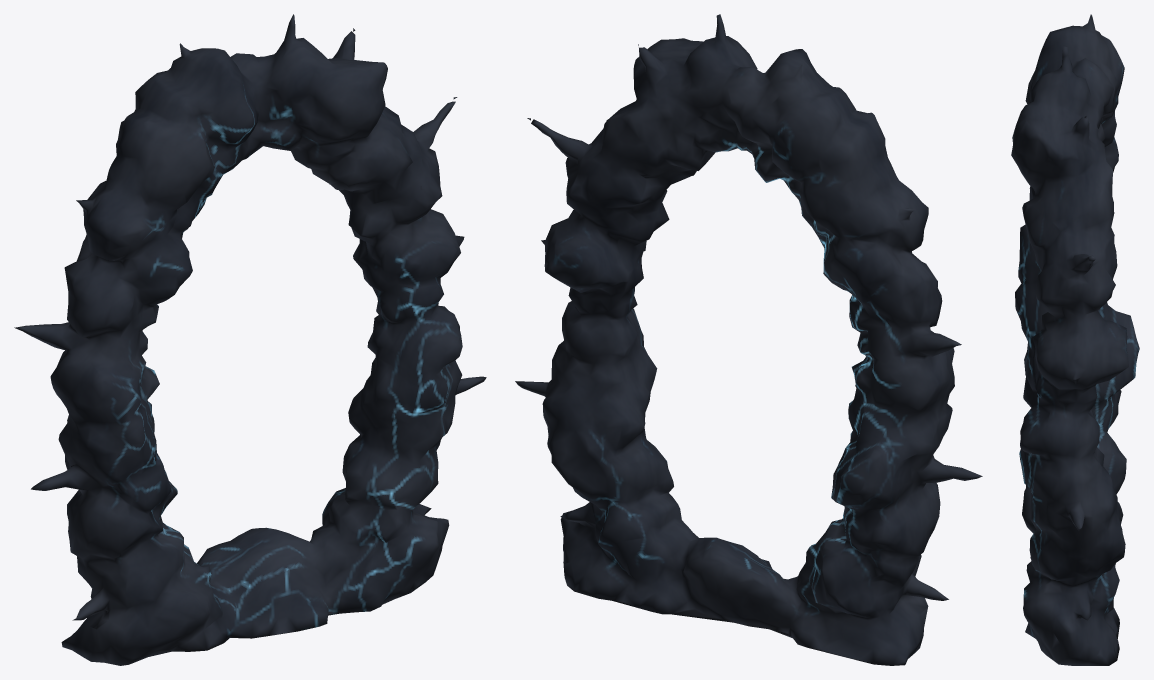
The model's file is portal_frame.glb.
3 views of the same model, side by side, from view 1: azimuth 30°, elevation 25°; view 2: azimuth 150°, elevation 25°; view 3: azimuth 270°, elevation 25° (orthographic). The views are drawn at different scales.
Parts seen in each view (by area): view 1: PortalFrame; view 2: PortalFrame; view 3: PortalFrame.
Part boxes in pixels (bbox=[...]): PortalFrame: bbox=[14, 14, 486, 665]; PortalFrame: bbox=[515, 14, 982, 665]; PortalFrame: bbox=[1011, 14, 1139, 665].
Size of the model in its own units: 2.18 by 2.67 by 0.555.
1 material, 1 textured.
